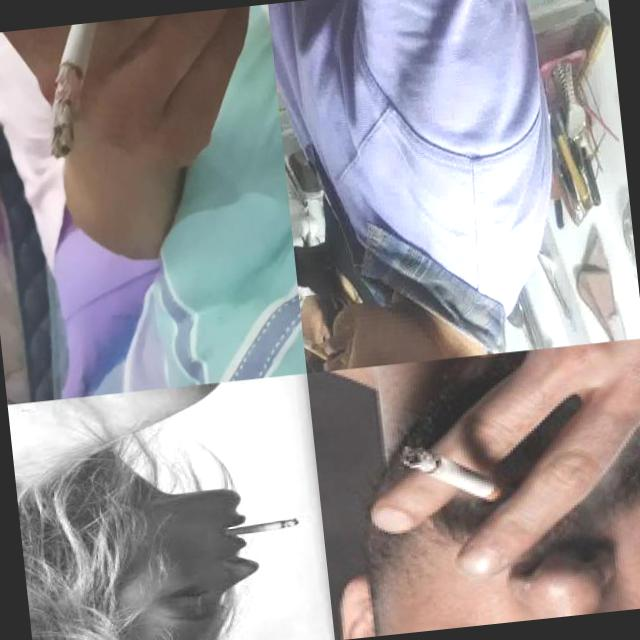cigarette: (35, 20, 130, 160), (405, 438, 507, 512), (222, 518, 300, 536), (302, 318, 331, 363)
